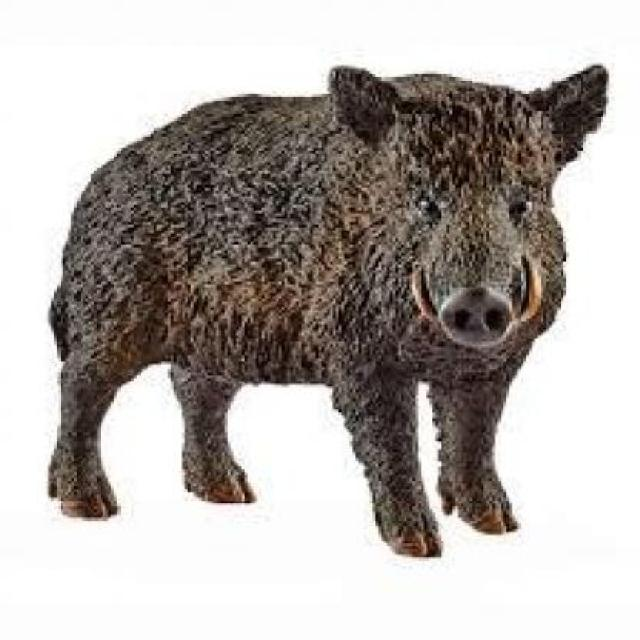wildboar: (38, 59, 616, 566)
